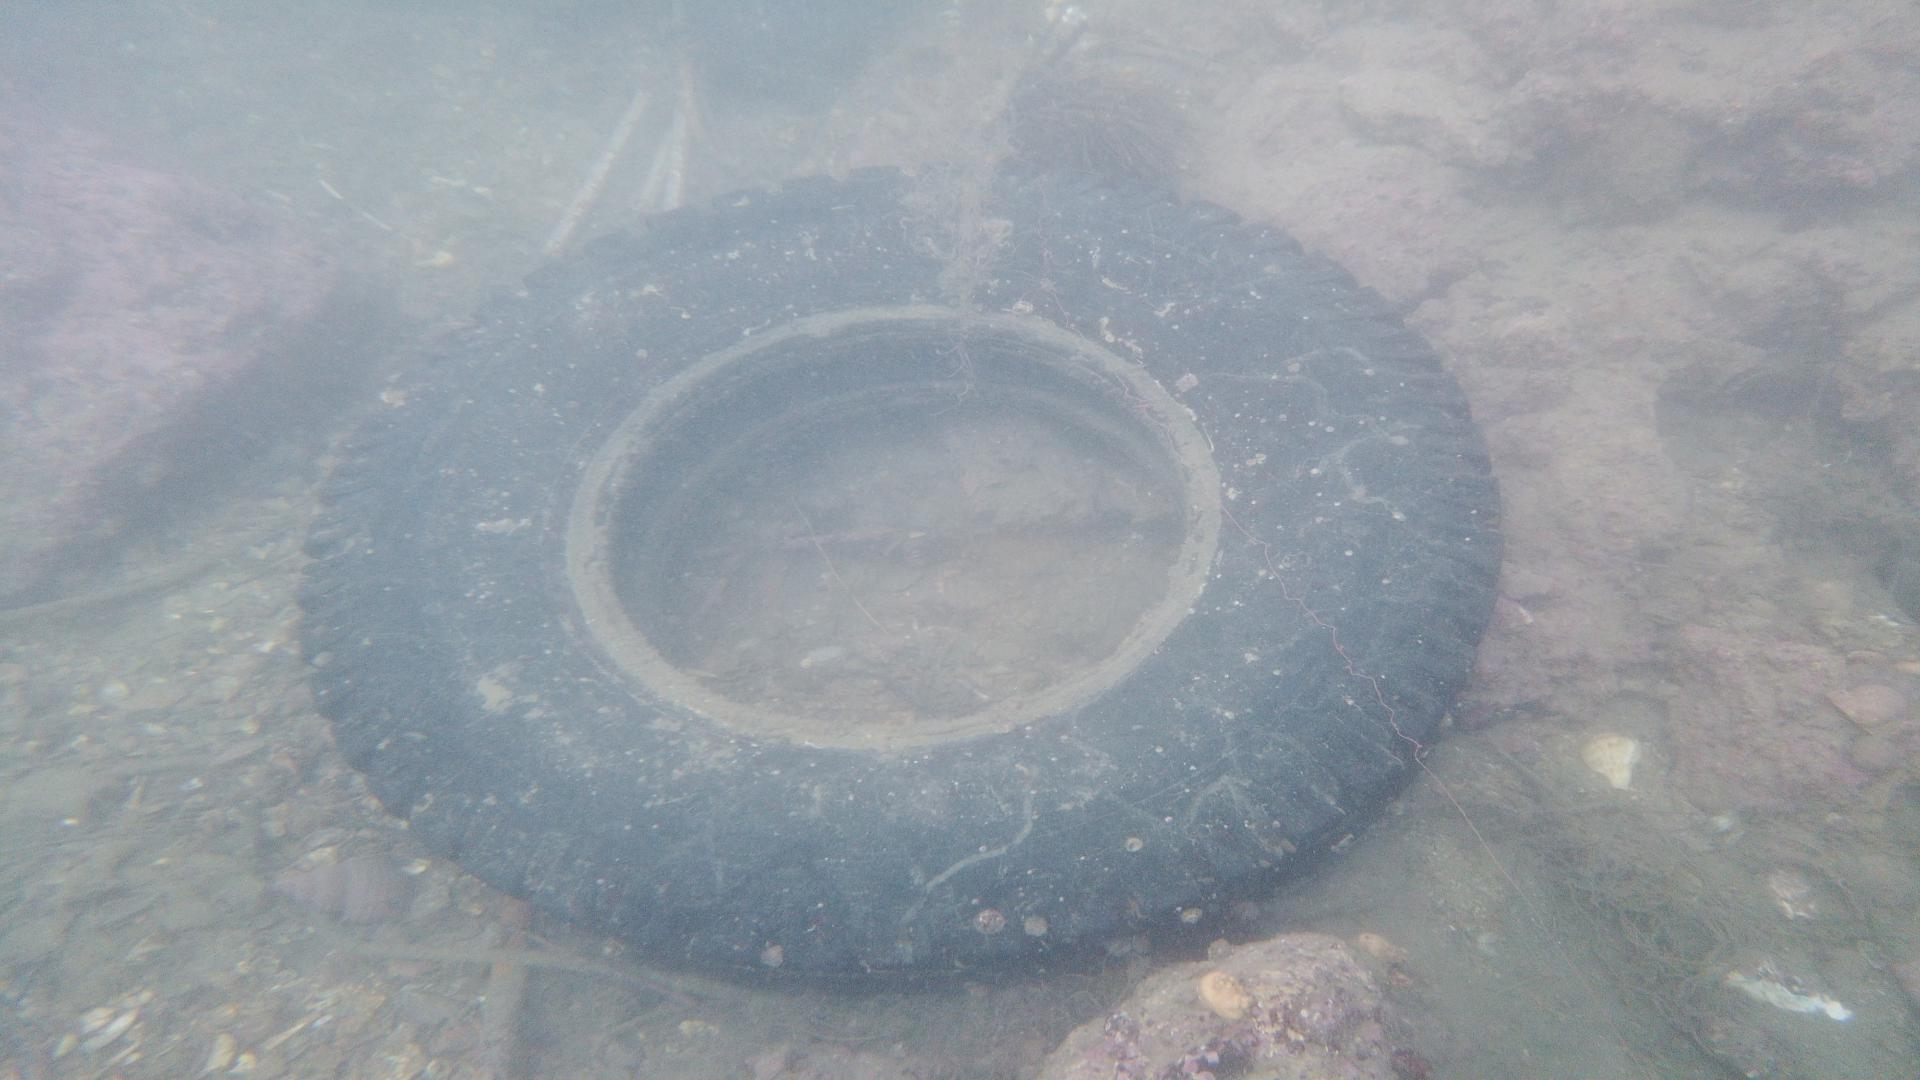tire: (295, 160, 1513, 992)
